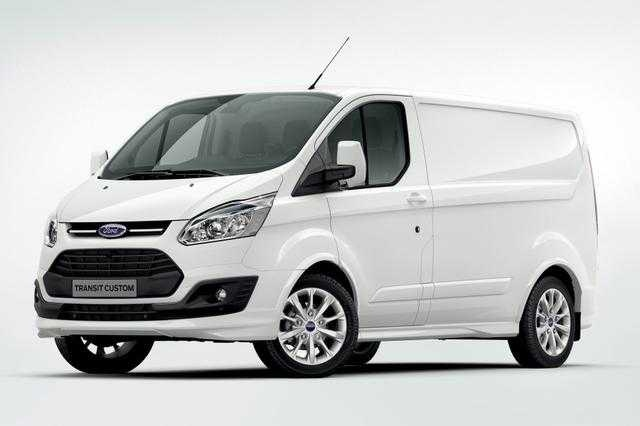van: (33, 86, 599, 378)
